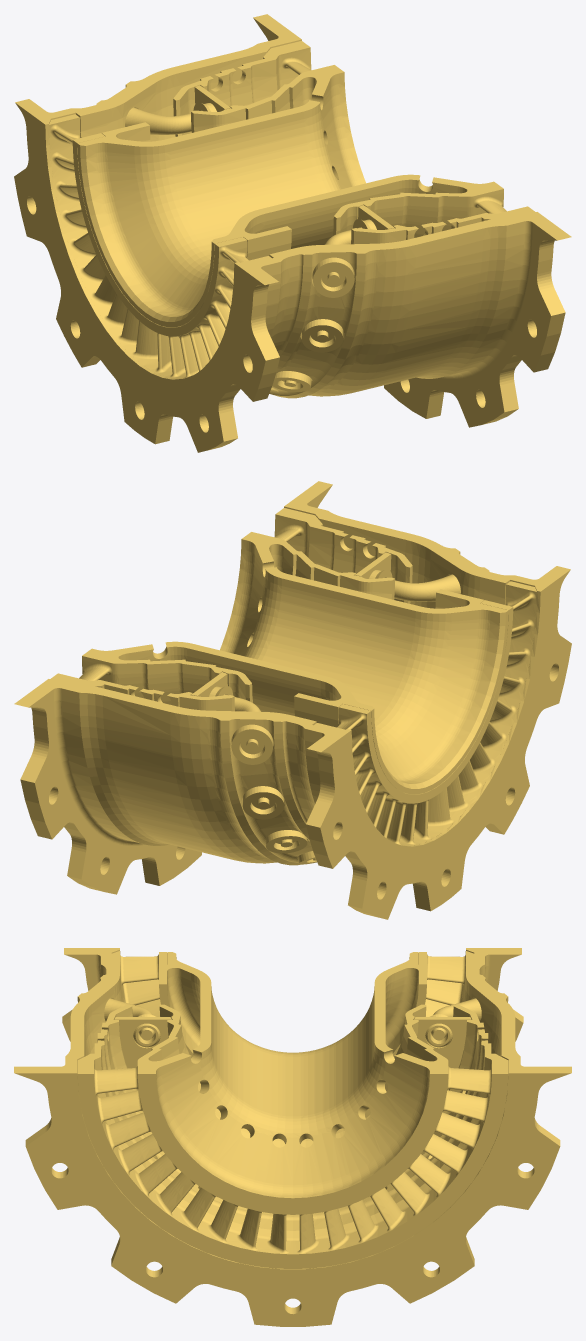
The model's file is Combustion.glb.
The picture shows the model from 3 angles, top to bottom: view 1: azimuth 30°, elevation 25°; view 2: azimuth 150°, elevation 25°; view 3: azimuth 270°, elevation 25°; orthographic projection. The views are drawn at different scales.
Visible parts, largest first — view 1: Assembled Combustion Section; view 2: Assembled Combustion Section; view 3: Assembled Combustion Section.
Boxes of the visible parts, x1,y1,x2,y2 form: Assembled Combustion Section: (14, 14, 571, 452); Assembled Combustion Section: (14, 481, 571, 919); Assembled Combustion Section: (14, 948, 571, 1326).
Size of the model in its own units: 54.3 by 51.36 by 102.
